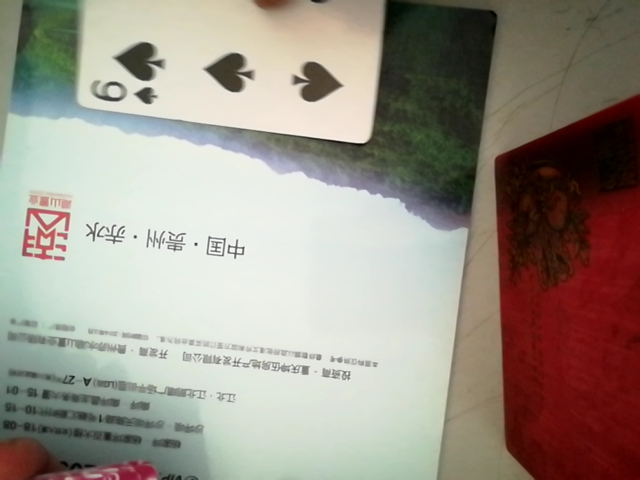ht 6: (60, 0, 387, 143)
